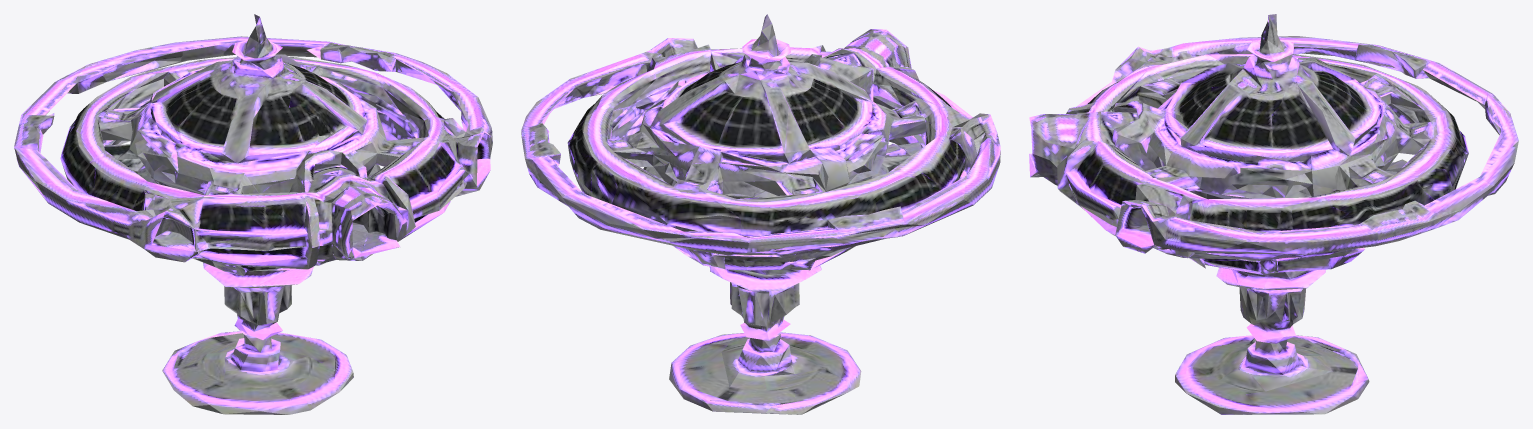
File: ring-elevator.glb
The picture shows the model from 3 angles, left to right: view 1: azimuth 30°, elevation 25°; view 2: azimuth 150°, elevation 25°; view 3: azimuth 270°, elevation 25°; orthographic projection.
Parts seen in each view (by area): view 1: Mesh_0; view 2: Mesh_0; view 3: Mesh_0.
Boxes of the visible parts, box(x1,y1,x2,y2) form: Mesh_0: box(14, 14, 492, 414); Mesh_0: box(521, 14, 1000, 414); Mesh_0: box(1029, 14, 1518, 414).
Bounding box in the file's own units: 4.87 × 4 × 4.86.
Materials: 1 (1 with a texture image).
